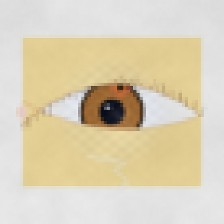foreign_body_visible: (101, 71, 140, 103)
